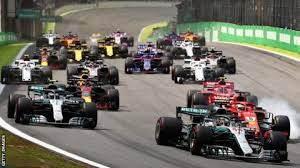FormulaOneCar: (152, 100, 292, 168), (7, 82, 101, 132), (181, 79, 262, 115), (65, 77, 127, 113), (171, 56, 231, 86), (64, 55, 118, 86), (121, 49, 175, 78), (1, 56, 55, 85)
